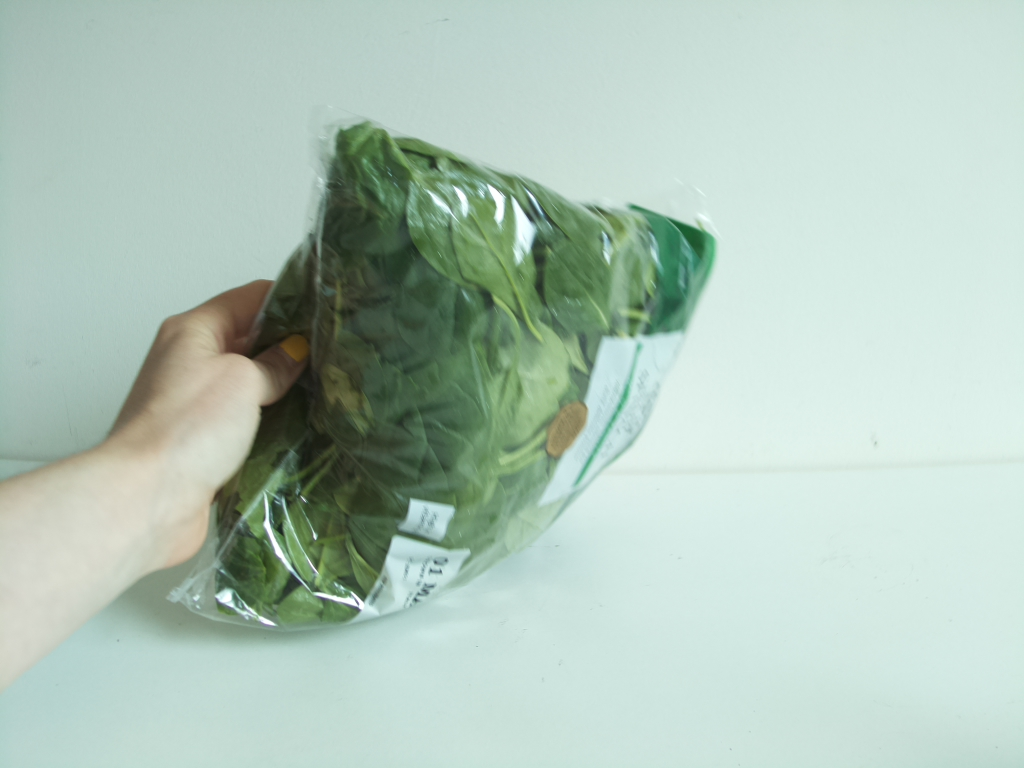salad: (203, 119, 715, 631)
